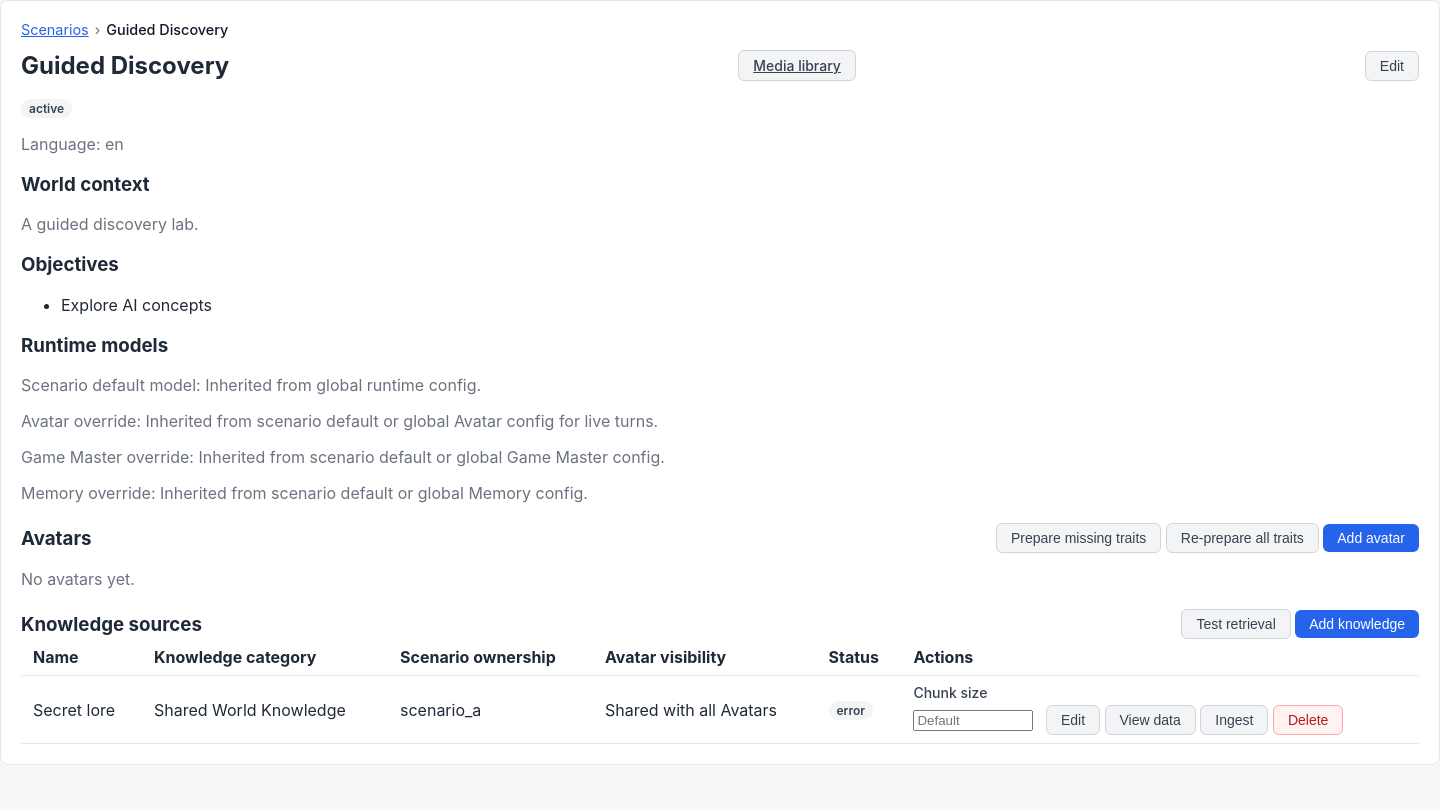
Test: ScenarioDetailPage knowledge ingestion feedback › shows an inline error when the ingestion job fails
Expected: the heading "Guided Discovery" is shown, [21,51,229,80]
Click the button "Ingest": [1234, 720] box [1200,705,1268,735]
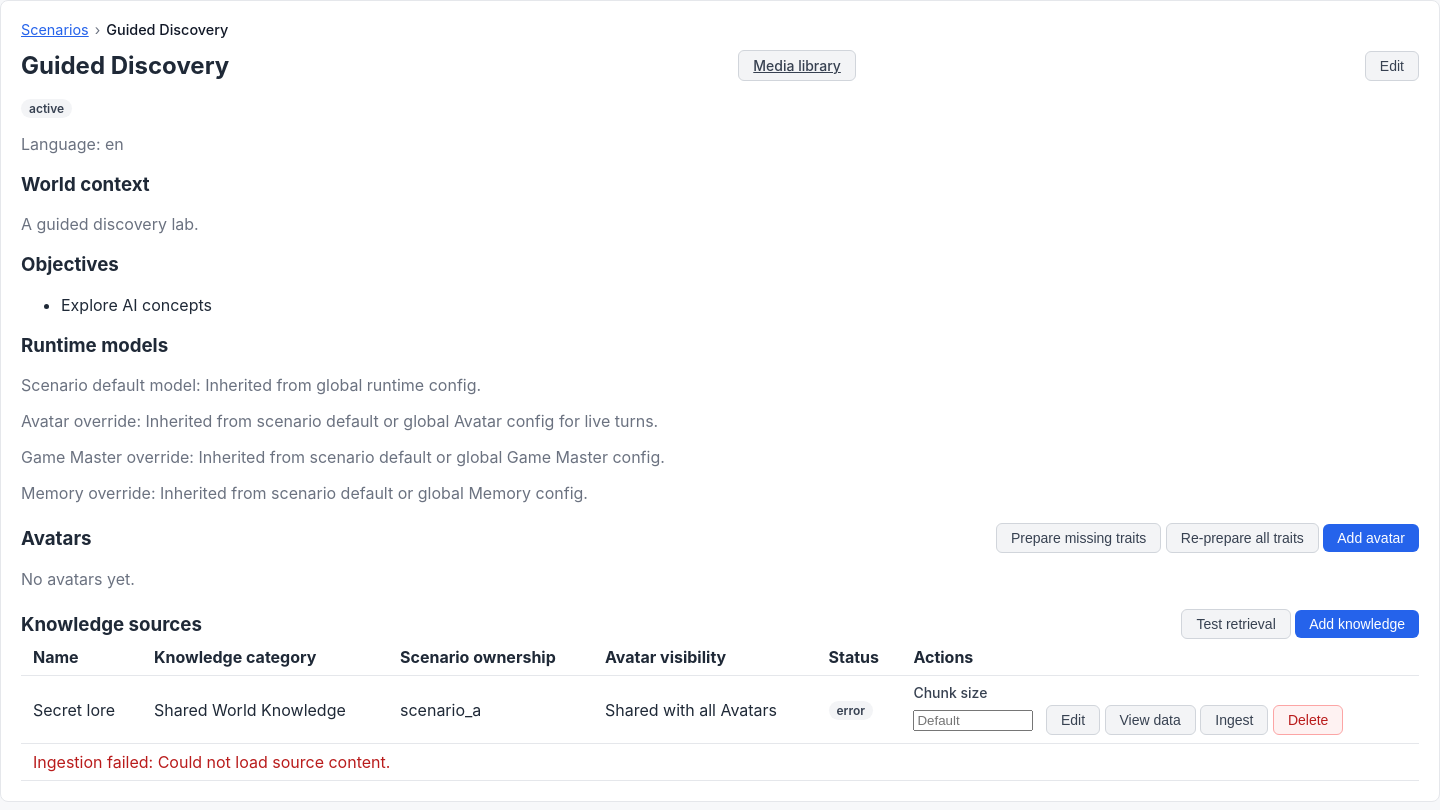
Now the text "Ingestion failed: Could not load source content." is shown, box [21,744,1419,781]
